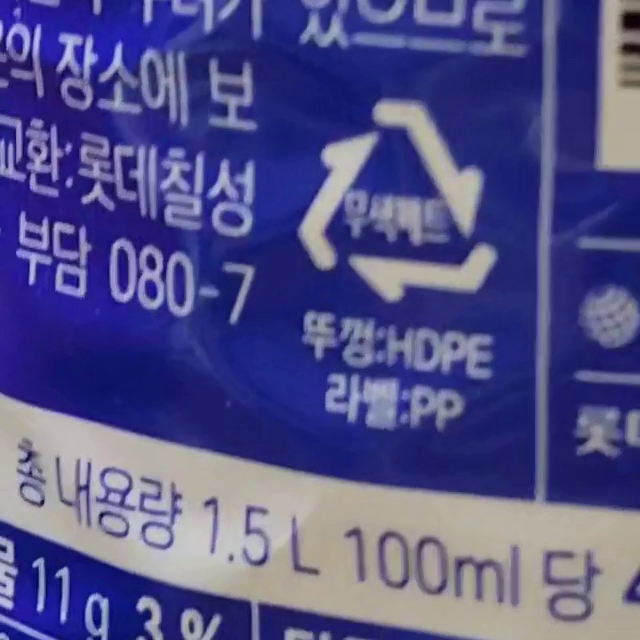ColorlessPet: (298, 101, 495, 305)
